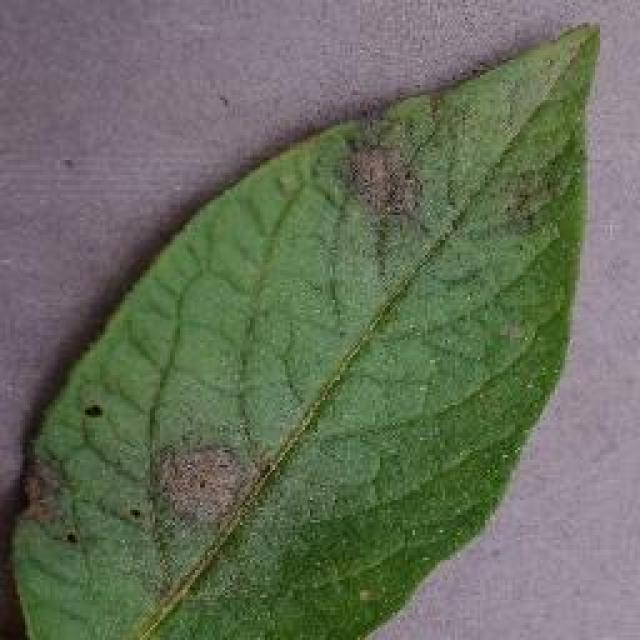late_blight: (5, 18, 605, 638)
